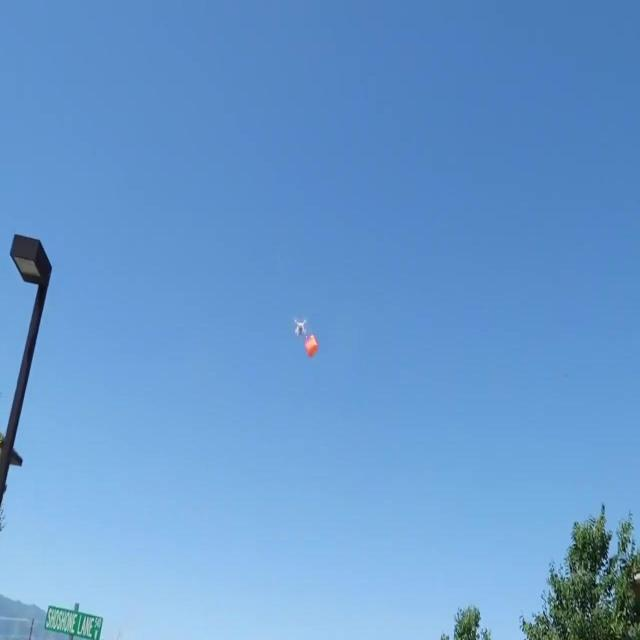drone: (292, 316, 308, 337)
